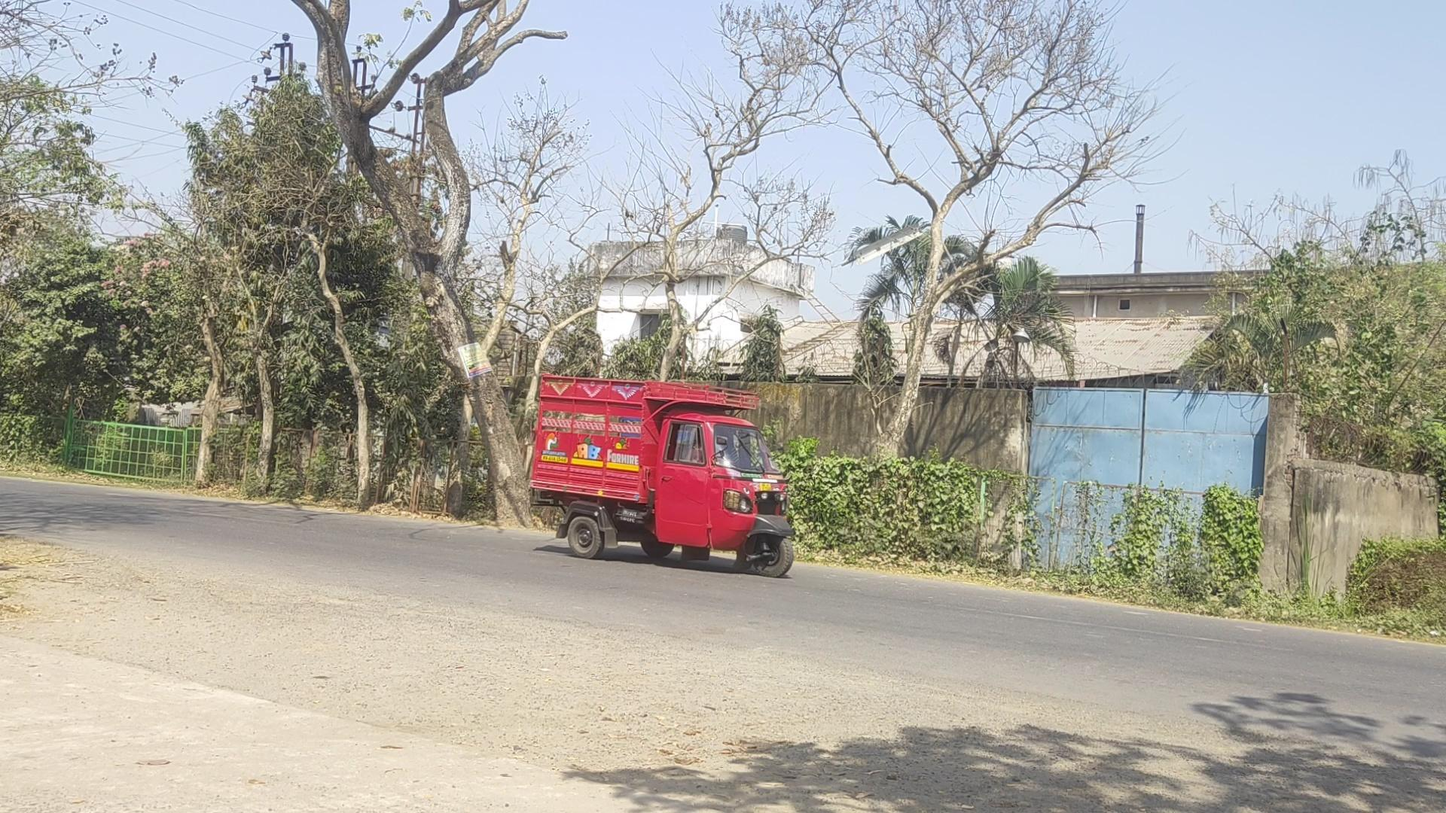van: (529, 371, 793, 578)
